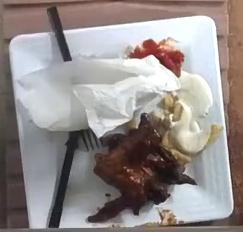wings: (88, 114, 185, 222)
